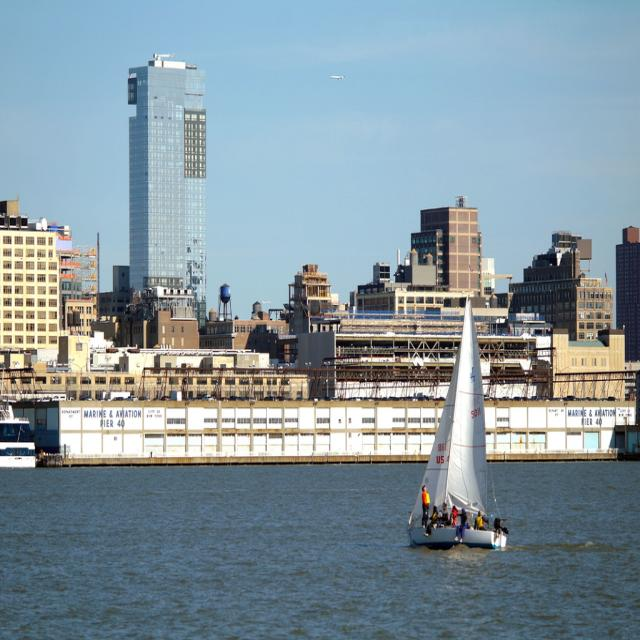Boat: (409, 297, 516, 554)
